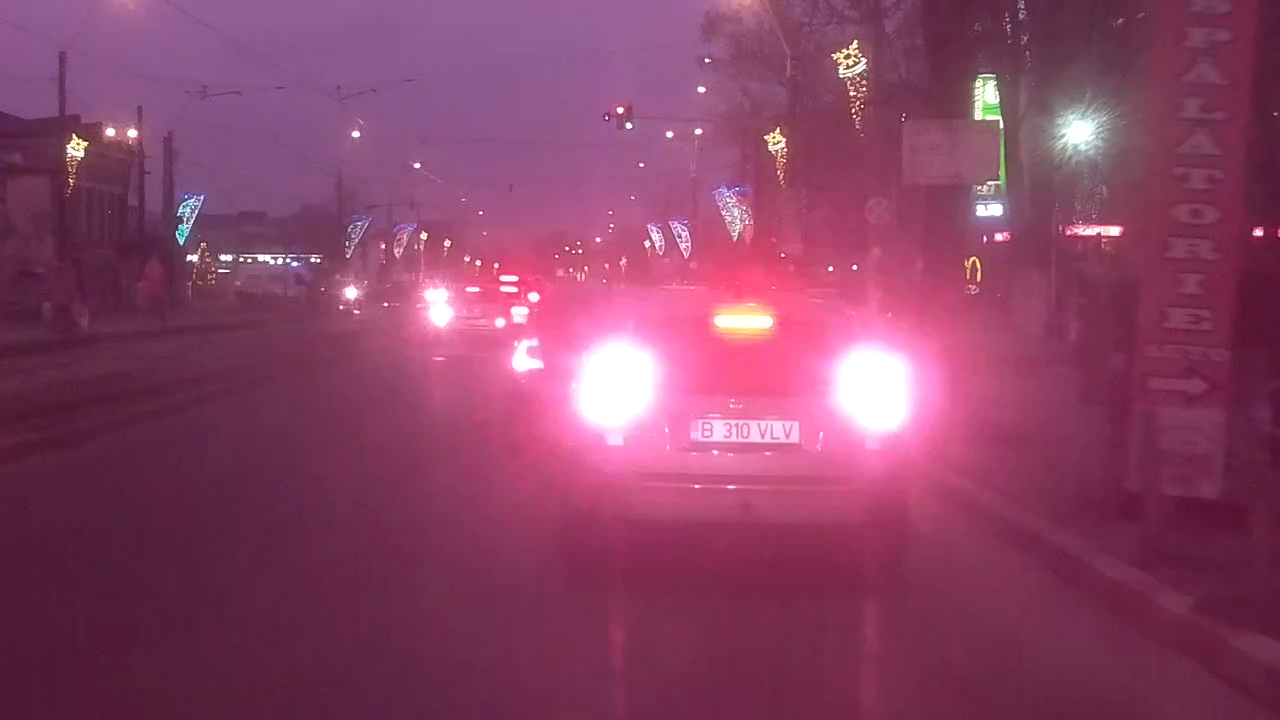license-plate: (685, 413, 803, 447)
